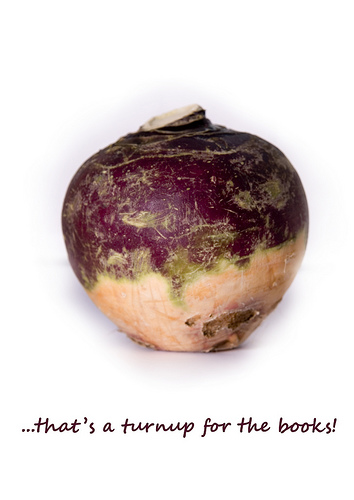turnip: (60, 105, 310, 353)
